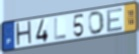4: (35, 18, 49, 43)
5: (73, 13, 85, 38)
E: (106, 6, 124, 34)
H: (15, 20, 33, 48)
L: (53, 17, 68, 42)
O: (88, 10, 105, 35)
